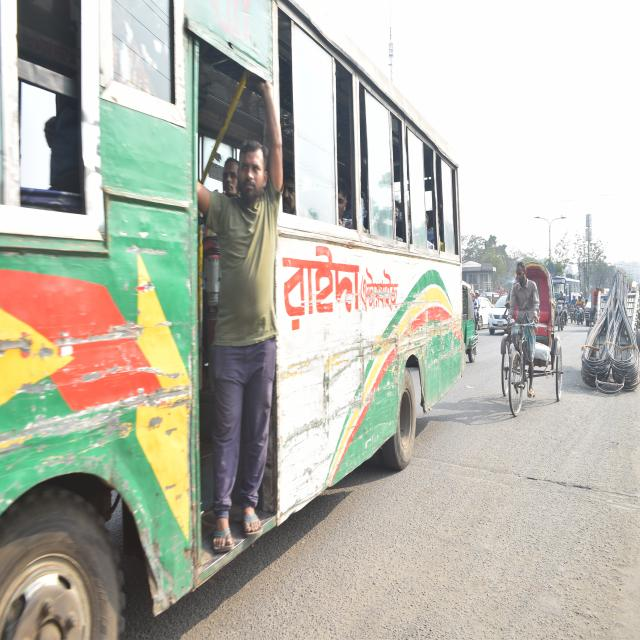bus: (0, 0, 463, 640)
car: (488, 289, 511, 336)
motorbike: (552, 288, 570, 334), (579, 295, 594, 330), (574, 294, 584, 328)
